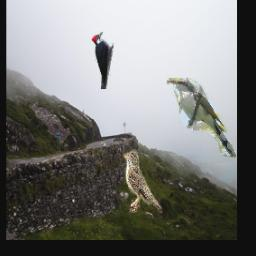Cuckoo: (168, 79, 237, 158)
Sparrow: (123, 149, 162, 213)
Woodpecker: (90, 31, 114, 89)
